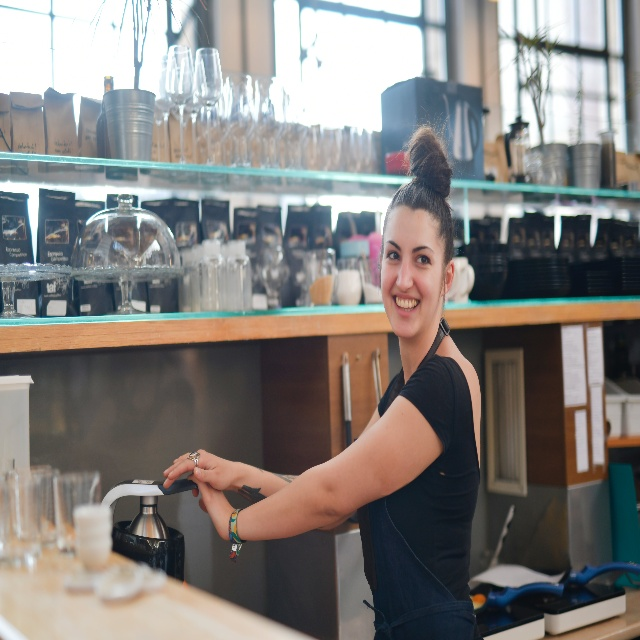Sin_guantes: (187, 469, 236, 541), (163, 449, 235, 491)
